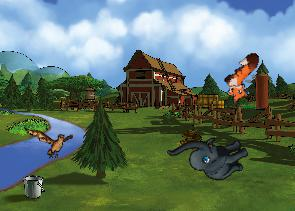eagle: (24, 120, 76, 162)
elephant: (166, 114, 254, 198)
fox: (214, 49, 275, 110)
